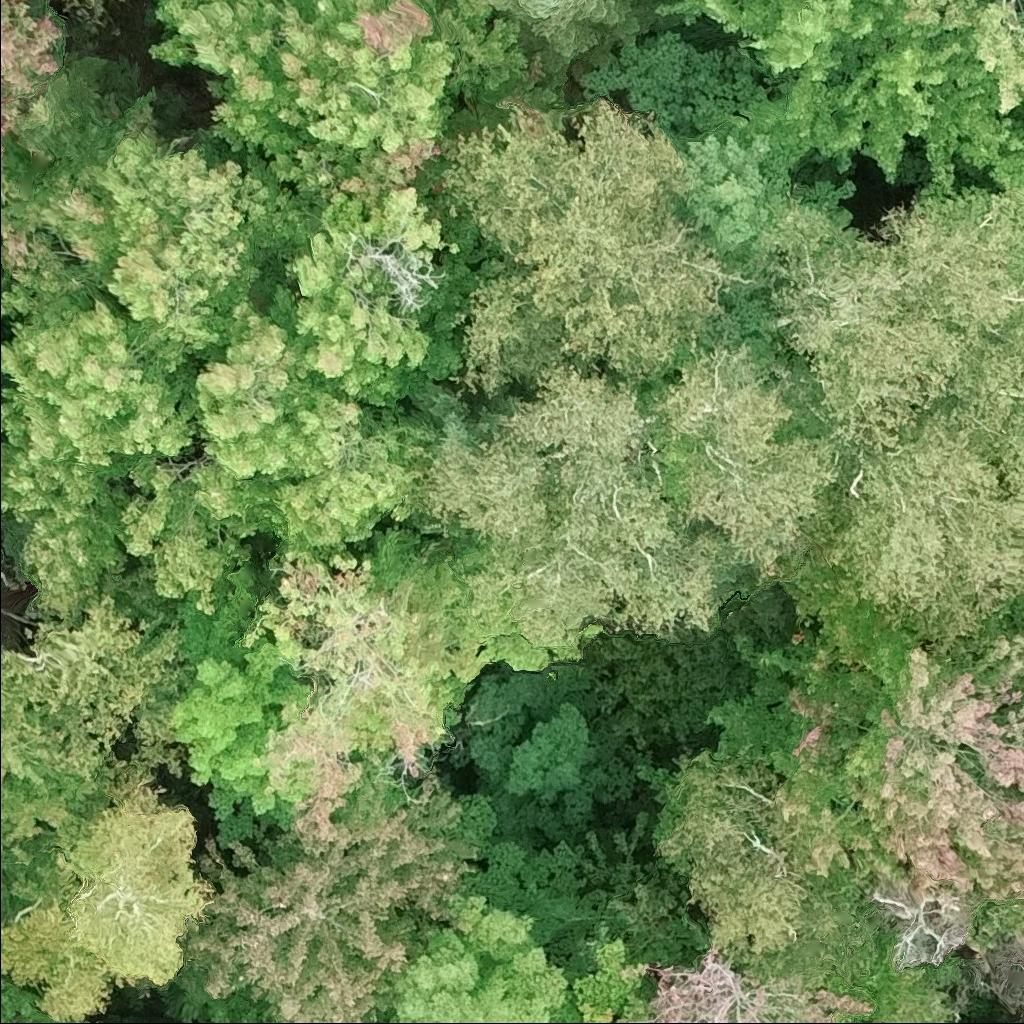crown: (403, 325, 843, 648), (761, 180, 1023, 654), (698, 548, 1023, 907), (240, 523, 605, 798), (435, 96, 757, 397), (0, 90, 320, 373), (0, 277, 256, 624), (143, 0, 568, 208), (168, 762, 498, 1023), (653, 0, 1023, 188), (185, 297, 441, 560), (633, 746, 875, 985), (0, 772, 216, 1023), (272, 179, 500, 408), (670, 104, 857, 338), (0, 591, 193, 804), (169, 589, 312, 854), (387, 892, 571, 1023), (610, 943, 874, 1023), (0, 722, 113, 871), (463, 667, 590, 785), (487, 0, 645, 85), (832, 930, 961, 1023), (0, 57, 109, 160), (502, 696, 600, 800), (547, 916, 642, 1023), (0, 0, 67, 139), (869, 889, 970, 968), (993, 107, 1023, 187), (68, 0, 111, 18), (1012, 590, 1023, 631)
